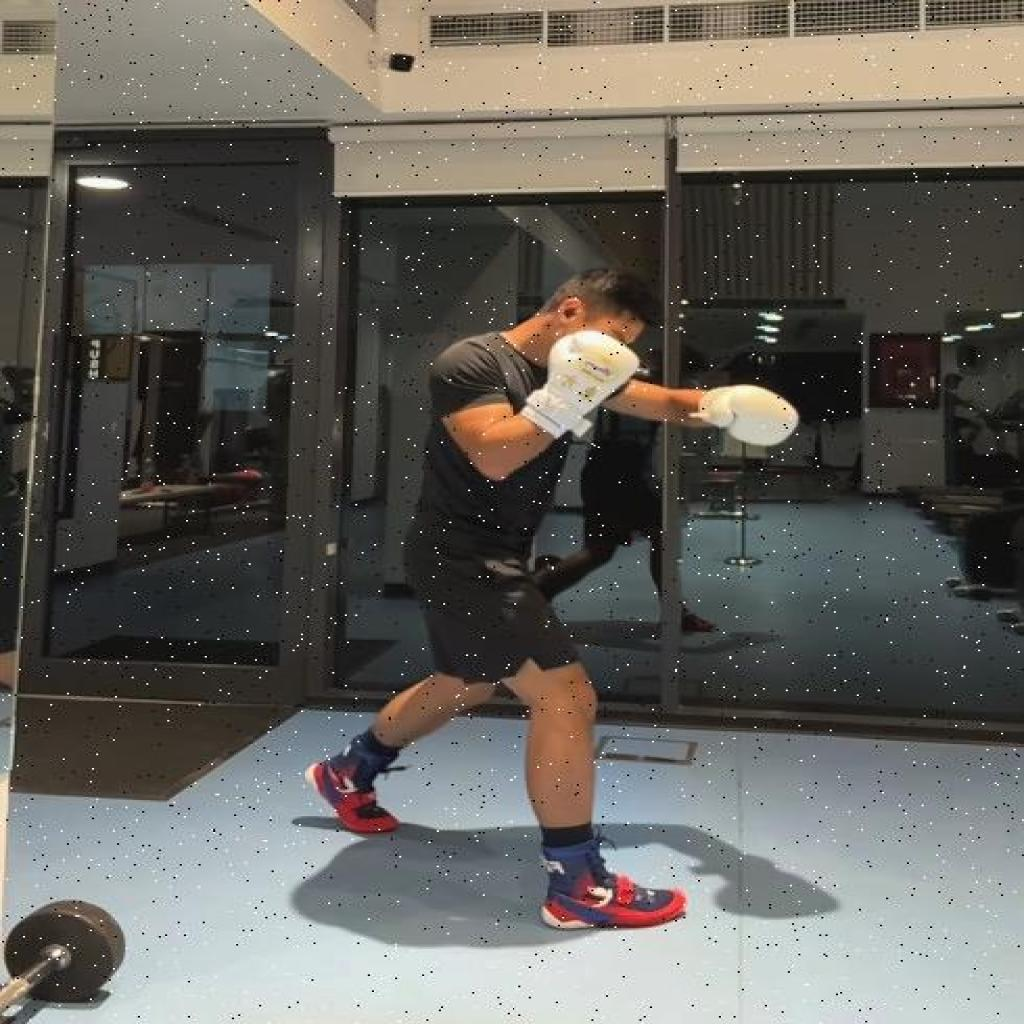hook: (303, 259, 798, 936)
